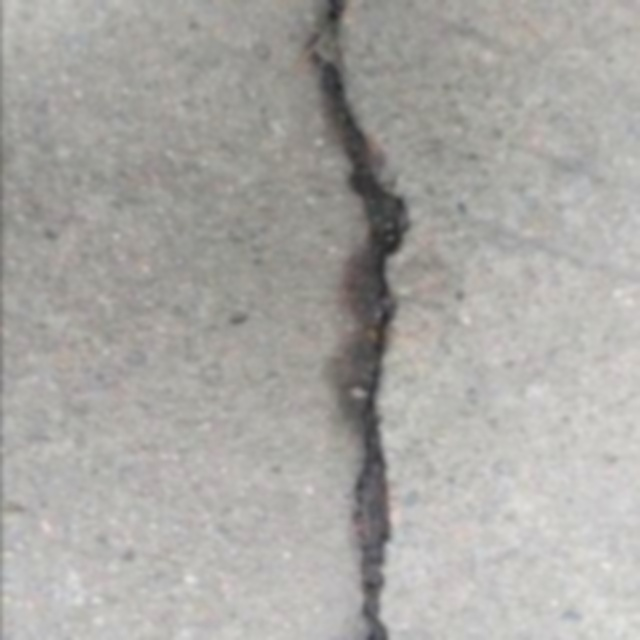SurfaceCrack: (266, 8, 482, 640)
